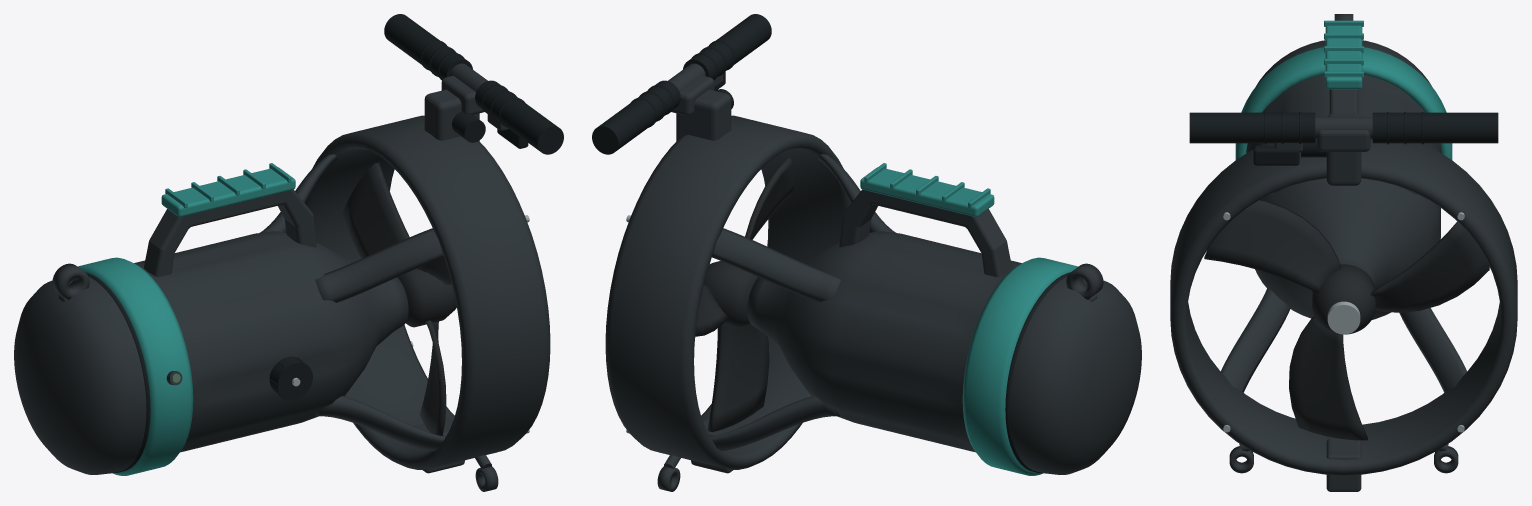
3 views of the same model, side by side, from view 1: azimuth 30°, elevation 25°; view 2: azimuth 150°, elevation 25°; view 3: azimuth 270°, elevation 25° (orthographic).
Parts seen in each view (by area): view 1: Broad complete propeller shroud, Axially recessed closed main body, Squat rounded closed nose, Wide circumferential closure collar, Open molded carry arch, Curved shroud support 1, Original static swept vane 1, Rear hand grip -1, Raised top accessory rail, Curved shroud support 2, Rear hand grip 1, Static central rotor hub (+8 smaller); view 2: Broad complete propeller shroud, Axially recessed closed main body, Squat rounded closed nose, Wide circumferential closure collar, Original static swept vane 3, Open molded carry arch, Curved shroud support 0, Rear hand grip 1, Raised top accessory rail, Curved shroud support 3, Rear hand grip -1, Static central rotor hub (+7 smaller); view 3: Broad complete propeller shroud, Axially recessed closed main body, Original static swept vane 2, Original static swept vane 3, Original static swept vane 1, Wide circumferential closure collar, Rear hand grip 1, Rear hand grip -1, Curved shroud support 2, Static central rotor hub, Curved shroud support 3, Raised top accessory rail (+10 smaller).
Part boxes in pixels (x1,y1,x2,y2): Broad complete propeller shroud: (305, 115, 550, 469); Axially recessed closed main body: (134, 231, 408, 452); Squat rounded closed nose: (14, 277, 146, 474); Wide circumferential closure collar: (77, 257, 193, 475); Open molded carry arch: (144, 189, 316, 276); Curved shroud support 1: (315, 228, 443, 302); Original static swept vane 1: (342, 162, 409, 258); Rear hand grip -1: (475, 80, 563, 154); Raised top accessory rail: (161, 167, 295, 217); Curved shroud support 2: (315, 396, 445, 451); Rear hand grip 1: (384, 14, 472, 79); Static central rotor hub: (397, 269, 456, 327); Broad complete propeller shroud: (605, 115, 850, 469); Axially recessed closed main body: (747, 231, 1021, 452); Squat rounded closed nose: (1009, 277, 1141, 474); Wide circumferential closure collar: (962, 257, 1078, 475); Original static swept vane 3: (707, 323, 769, 432); Open molded carry arch: (839, 189, 1011, 276); Curved shroud support 0: (712, 228, 840, 302); Rear hand grip 1: (592, 80, 680, 154); Raised top accessory rail: (860, 167, 994, 217); Curved shroud support 3: (710, 396, 840, 451); Rear hand grip -1: (683, 14, 771, 79); Static central rotor hub: (704, 261, 758, 327); Broad complete propeller shroud: (1170, 139, 1517, 475); Axially recessed closed main body: (1246, 74, 1441, 320); Original static swept vane 2: (1204, 199, 1340, 293); Original static swept vane 3: (1289, 316, 1367, 440); Original static swept vane 1: (1370, 221, 1489, 312); Wide circumferential closure collar: (1235, 47, 1452, 159); Rear hand grip 1: (1372, 112, 1498, 143); Rear hand grip -1: (1189, 112, 1315, 143); Curved shroud support 2: (1221, 288, 1290, 392); Static central rotor hub: (1312, 264, 1375, 334); Curved shroud support 3: (1399, 308, 1466, 392); Raised top accessory rail: (1325, 25, 1362, 89).
Size of the model in its own units: 51.08 by 41.88 by 34.
